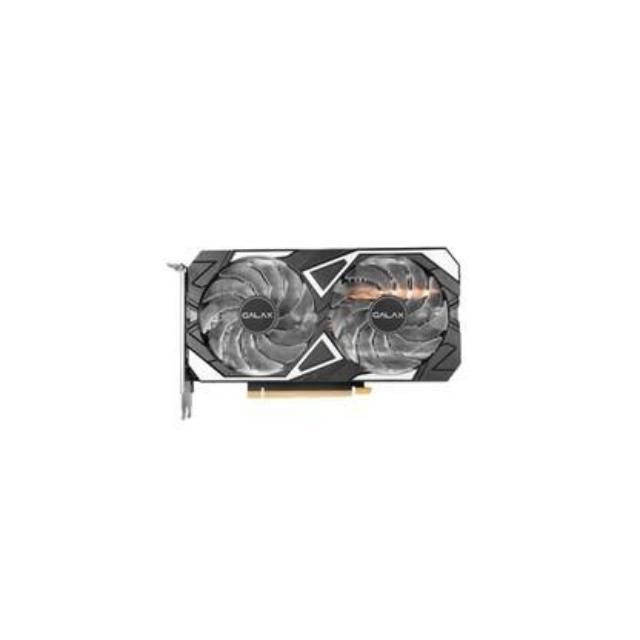GPU: (172, 244, 464, 398)
